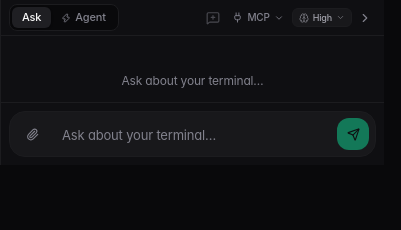
Scenario: AiPanel renders › renders with an API model selected and a key present
Check: the button "Agent" is shown, box [51,7,116,28]
Step 1. Click the button with aria-label "Reasoning effort" → (322, 18), box [292,8,352,27]
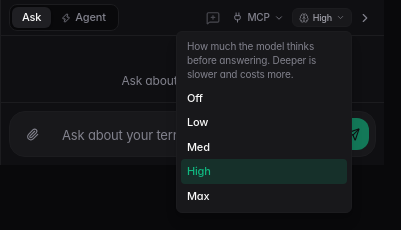
Check: the option "Off" is shown, box [181,86,347,110]
Check: the option "Med" is shown, box [181,134,347,159]
Check: the option "Max" is shown, box [181,184,347,208]
